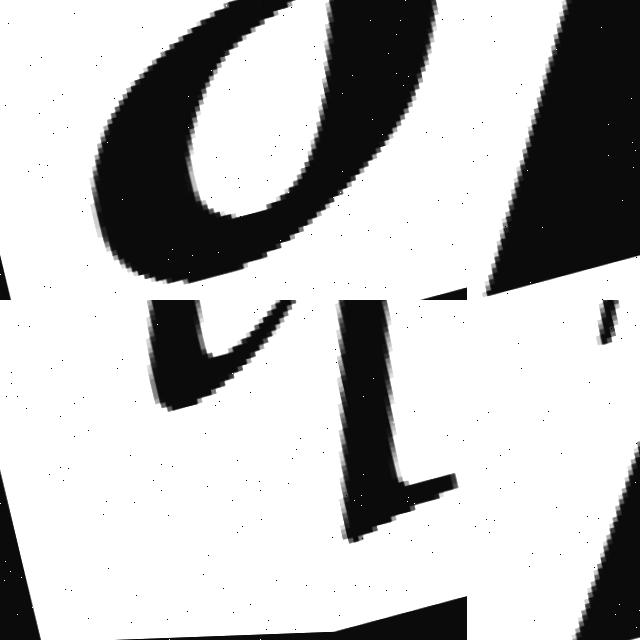E: (86, 0, 437, 283)
H: (332, 300, 459, 547)
Z: (467, 300, 640, 640), (467, 0, 640, 300)
